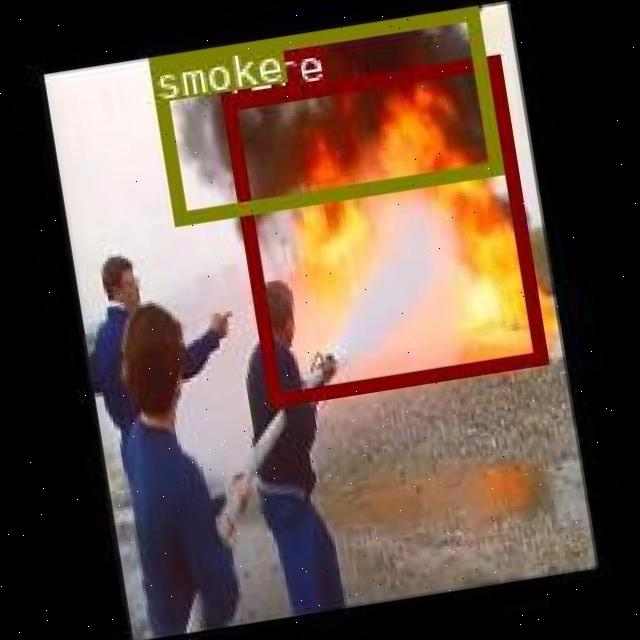fire: (221, 54, 544, 406)
smoke: (148, 6, 500, 223)
